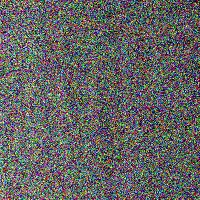inclusion: (91, 26, 131, 197), (145, 139, 163, 181)
